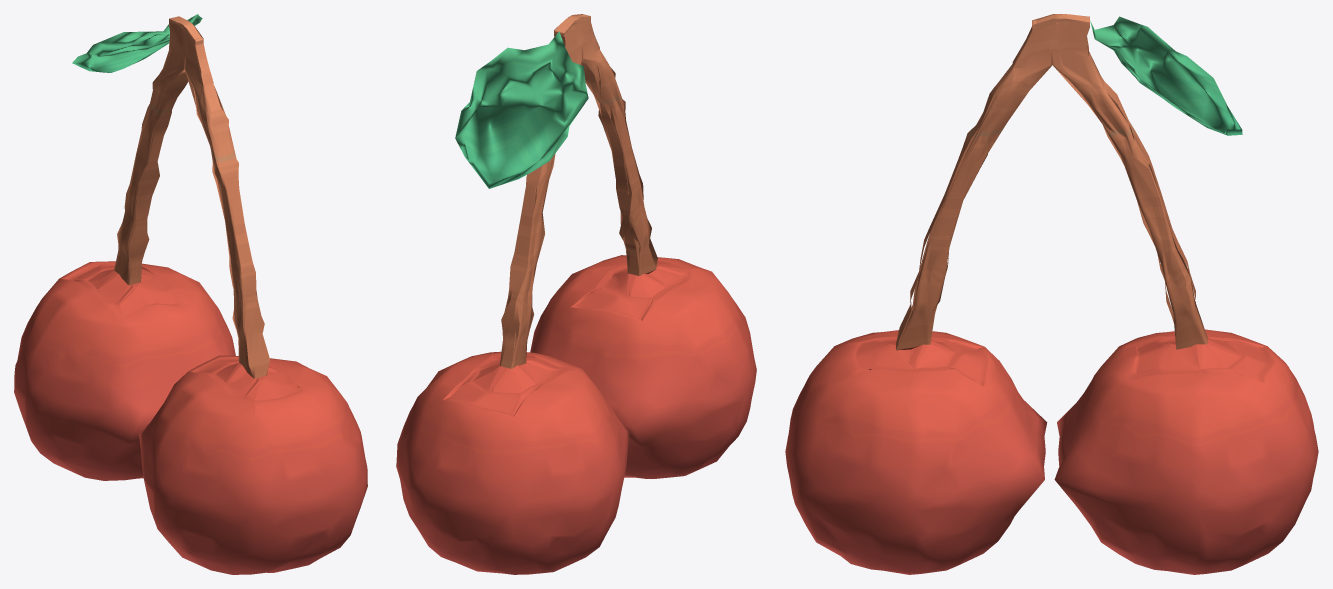
File: cherries.glb
3 views of the same model, side by side, from view 1: azimuth 30°, elevation 25°; view 2: azimuth 150°, elevation 25°; view 3: azimuth 270°, elevation 25° (orthographic). The views are drawn at different scales.
Size of the model in its own units: 0.4305 by 0.9792 by 0.8901.
Materials: 1 (1 with a texture image).
